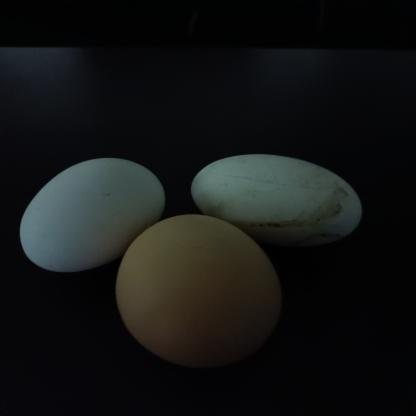egg: (122, 202, 280, 376), (8, 140, 175, 276), (182, 136, 376, 240)
